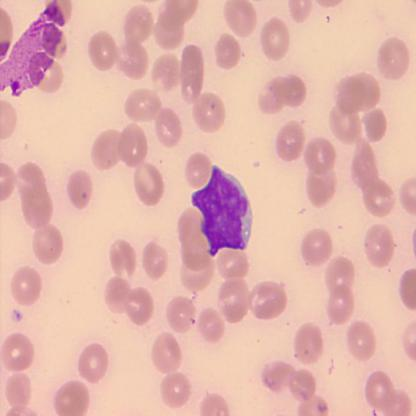Blast: (189, 162, 255, 260)
